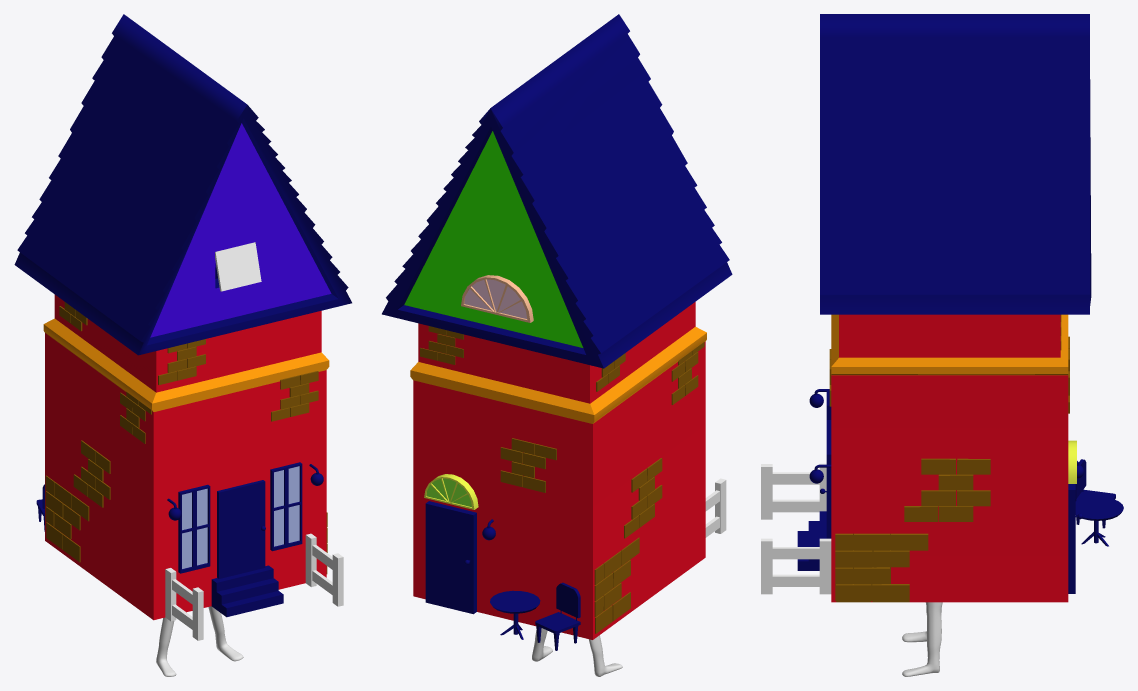
Rendered from Final house.fbx.
3 views of the same model, side by side, from view 1: azimuth 30°, elevation 25°; view 2: azimuth 150°, elevation 25°; view 3: azimuth 270°, elevation 25° (orthographic). The views are drawn at different scales.
Parts seen in each view (by area): view 1: building1, Plane; view 2: building1, Plane; view 3: building1, Plane.
Boxes of the visible parts, left/top/right/bottom form: building1: left=14, top=14, right=351, bottom=640; Plane: left=156, top=606, right=243, bottom=676; building1: left=382, top=14, right=732, bottom=650; Plane: left=532, top=628, right=622, bottom=676; building1: left=761, top=14, right=1123, bottom=602; Plane: left=902, top=602, right=942, bottom=676.
Bounding box in the file's own units: 463 × 1221 × 622.
